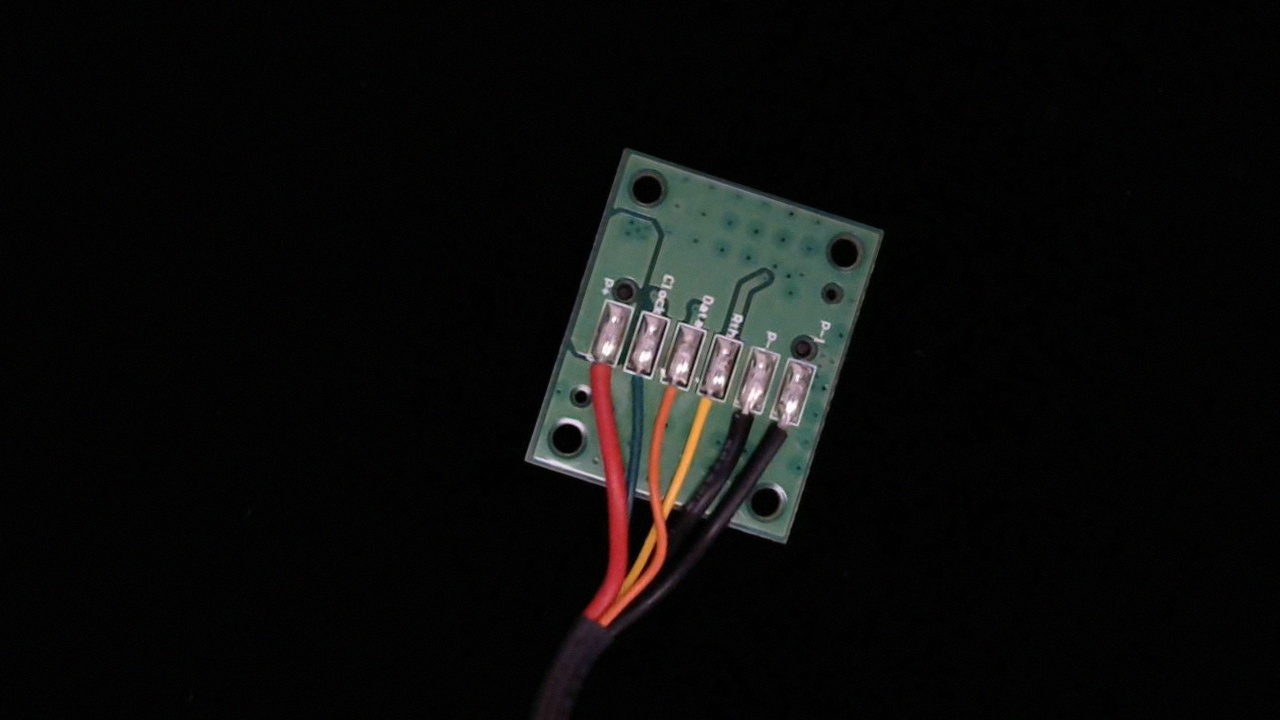Black: (714, 387, 769, 467)
Black1: (759, 402, 808, 476)
Green: (612, 354, 657, 420)
Orange: (644, 365, 696, 443)
Red: (573, 342, 623, 415)
Yellow: (676, 376, 730, 457)
